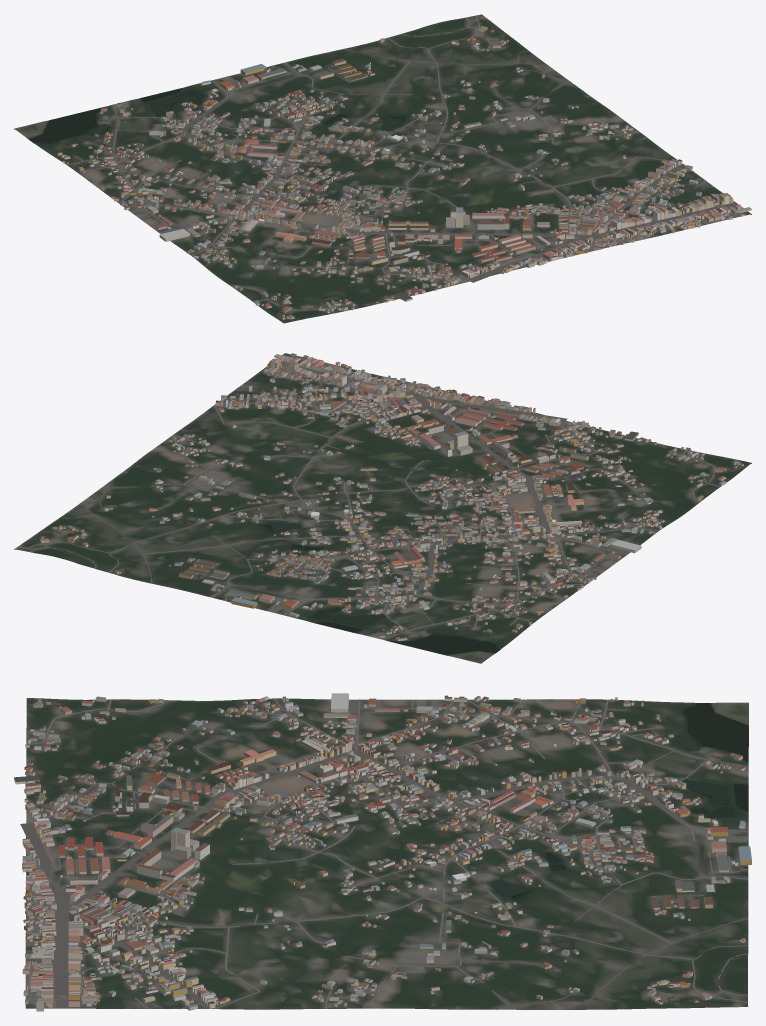
The picture shows the model from 3 angles, top to bottom: view 1: azimuth 30°, elevation 25°; view 2: azimuth 150°, elevation 25°; view 3: azimuth 270°, elevation 25°; orthographic projection. The views are drawn at different scales.
Parts seen in each view (by area): view 1: ground, buildings, roads, water; view 2: ground, buildings, roads, water; view 3: ground, buildings, roads, water.
Boxes of the visible parts, left/top/right/bottom form: ground: left=14, top=14, right=751, bottom=323; buildings: left=57, top=26, right=751, bottom=319; roads: left=67, top=14, right=738, bottom=310; water: left=29, top=39, right=504, bottom=143; ground: left=14, top=353, right=751, bottom=663; buildings: left=40, top=353, right=743, bottom=641; roads: left=14, top=356, right=720, bottom=639; water: left=53, top=523, right=499, bottom=655; ground: left=25, top=698, right=748, bottom=1009; buildings: left=14, top=693, right=751, bottom=1011; roads: left=20, top=698, right=748, bottom=1009; water: left=490, top=703, right=748, bottom=1002.
Size of the model in its own units: 1423 by 58.93 by 1432.
